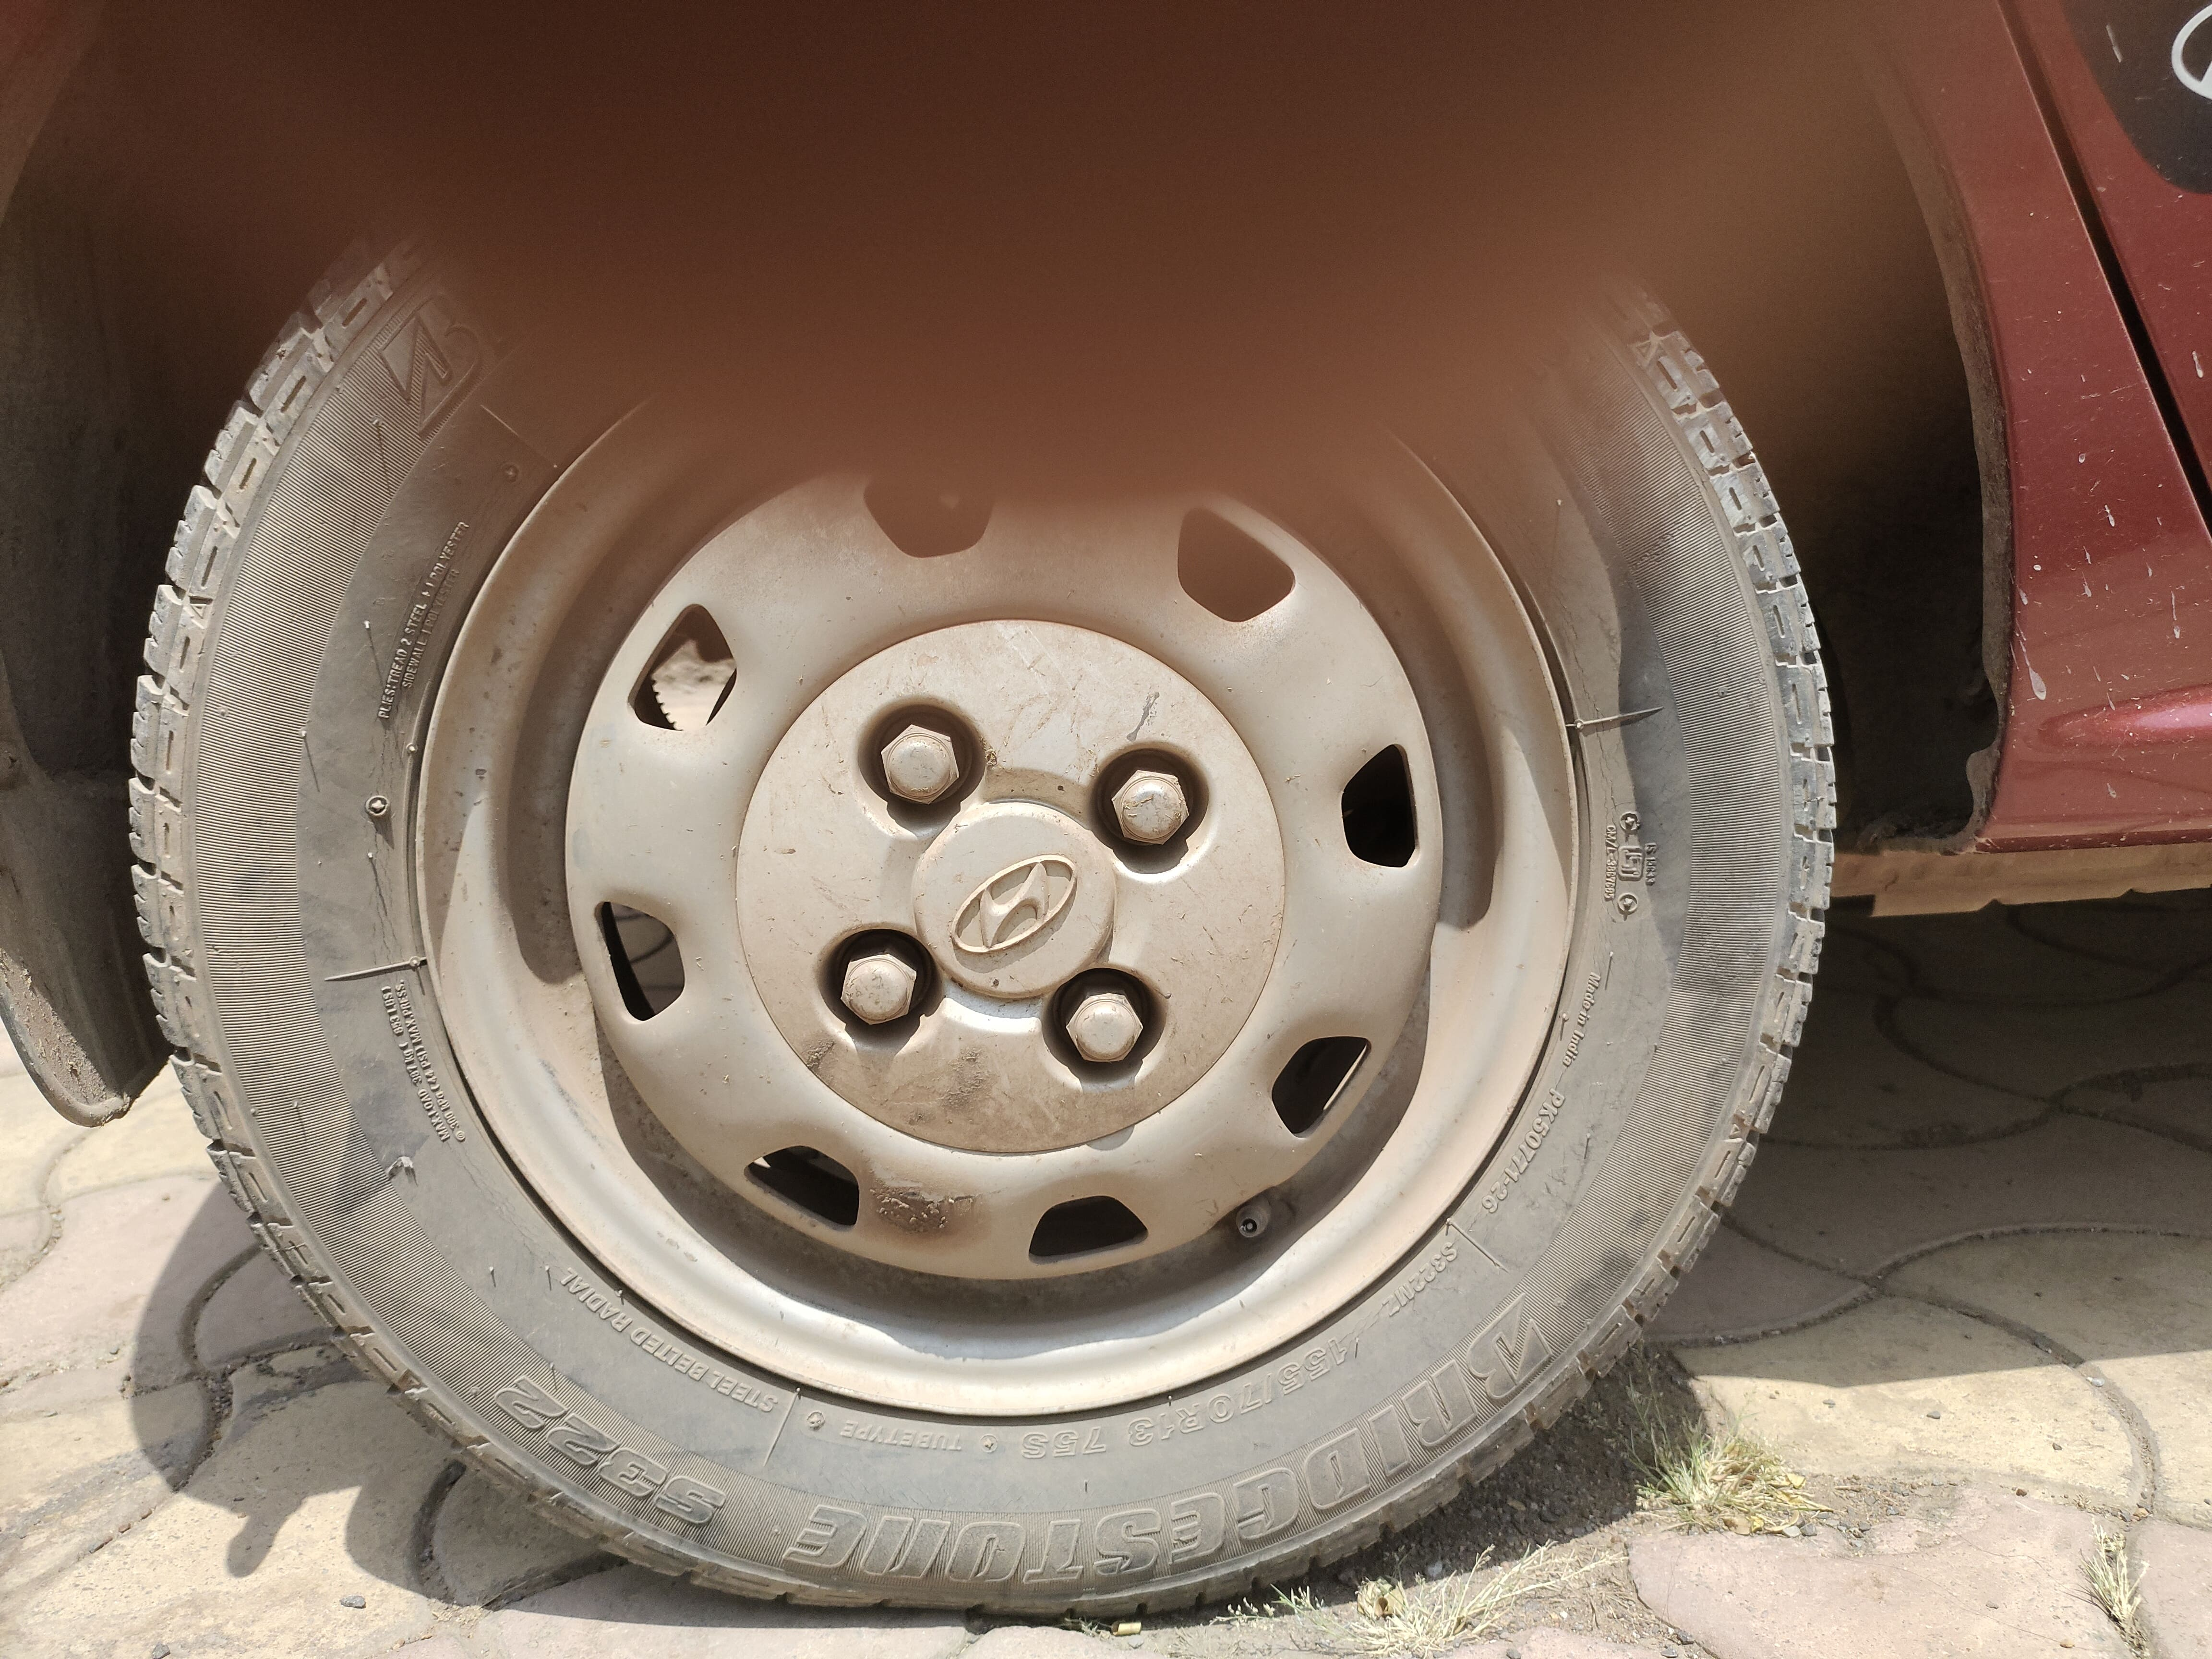l: (1055, 941, 1170, 1105), (810, 924, 942, 1061), (859, 697, 986, 829), (1080, 753, 1202, 868)
